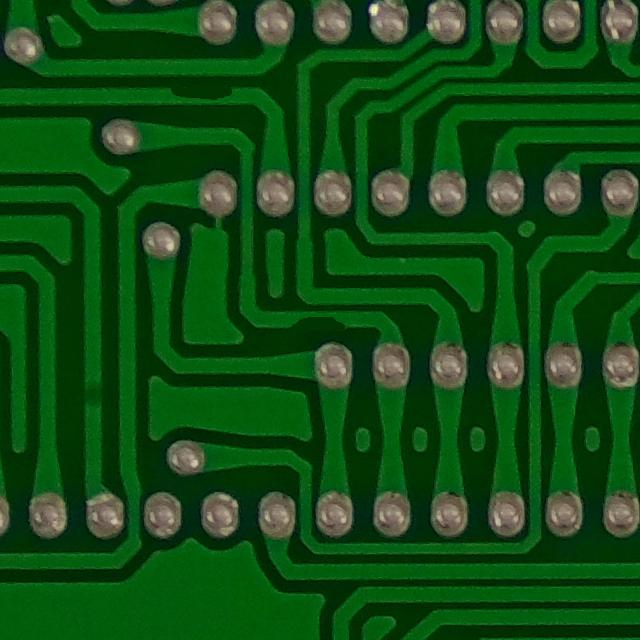mouse_bite: (282, 303, 358, 338)
